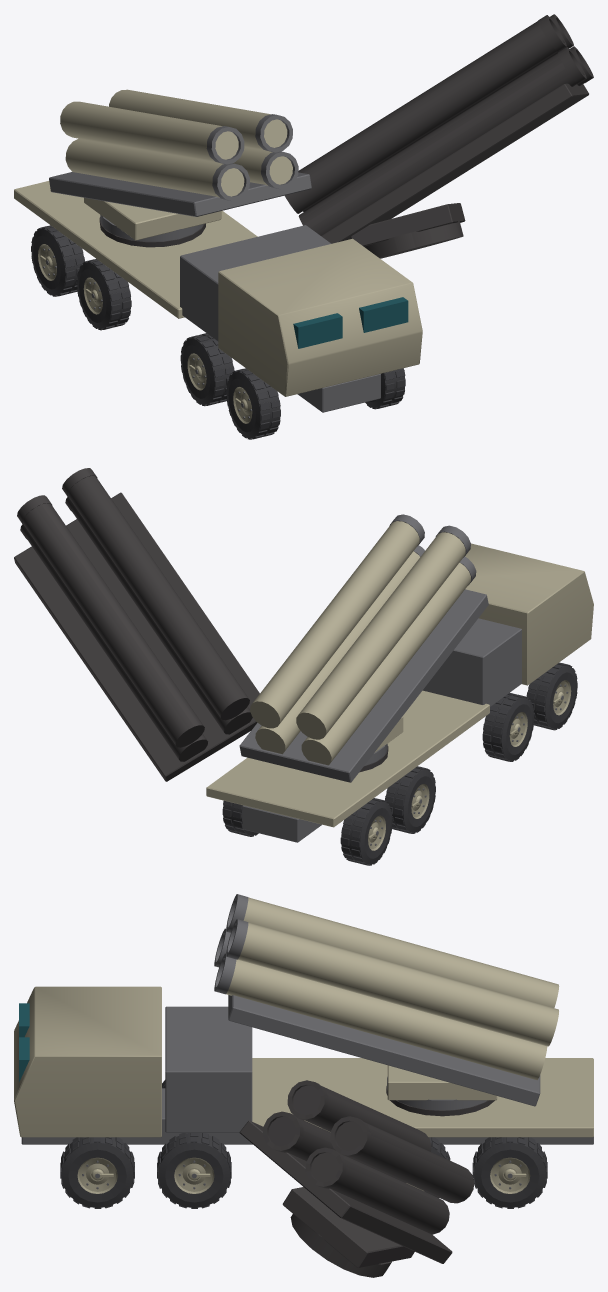
Rendered from himars__kn_25_600_mm_guided.glb.
3 views of the same model, one above another, from view 1: azimuth 30°, elevation 25°; view 2: azimuth 150°, elevation 25°; view 3: azimuth 270°, elevation 25° (orthographic). The views are drawn at different scales.
Visible parts, largest first — view 1: Hull_Mesh, Wreck, Gun_Mesh, Turret_Mesh, Wheel_L3_Mesh, Wheel_L1_Mesh, Wheel_L2_Mesh, Wheel_L0_Mesh, Wheel_R3_Mesh; view 2: Wreck, Gun_Mesh, Hull_Mesh, Wheel_L2_Mesh, Wheel_L0_Mesh, Wheel_L3_Mesh, Wheel_L1_Mesh, Wheel_R0_Mesh; view 3: Hull_Mesh, Gun_Mesh, Wreck, Wheel_R2_Mesh, Wheel_R0_Mesh, Wheel_R3_Mesh, Turret_Mesh.
Part boxes in pixels (x1,y1,x2,y2): Hull_Mesh: (14,181,422,412); Wreck: (52,14,593,438); Gun_Mesh: (49,89,311,216); Turret_Mesh: (84,198,221,241); Wheel_L3_Mesh: (226,368,280,439); Wheel_L1_Mesh: (77,259,131,330); Wheel_L2_Mesh: (180,333,234,406); Wheel_L0_Mesh: (31,225,84,296); Wheel_R3_Mesh: (365,368,405,409); Wreck: (14,468,559,833); Gun_Mesh: (239,514,488,782); Hull_Mesh: (206,543,593,842); Wheel_L2_Mesh: (482,693,534,761); Wheel_L0_Mesh: (340,798,392,865); Wheel_L3_Mesh: (526,662,577,730); Wheel_L1_Mesh: (385,766,435,833); Wheel_R0_Mesh: (222,800,258,836); Hull_Mesh: (14,986,593,1144); Gun_Mesh: (214,894,559,1106); Wreck: (239,1080,494,1277); Wheel_R2_Mesh: (157,1133,231,1208); Wheel_R0_Mesh: (472,1137,547,1208); Wheel_R3_Mesh: (60,1137,134,1208); Turret_Mesh: (387,1065,497,1110).
Size of what is drawn, in the model's own units: 8.75 by 4.51 by 9.
